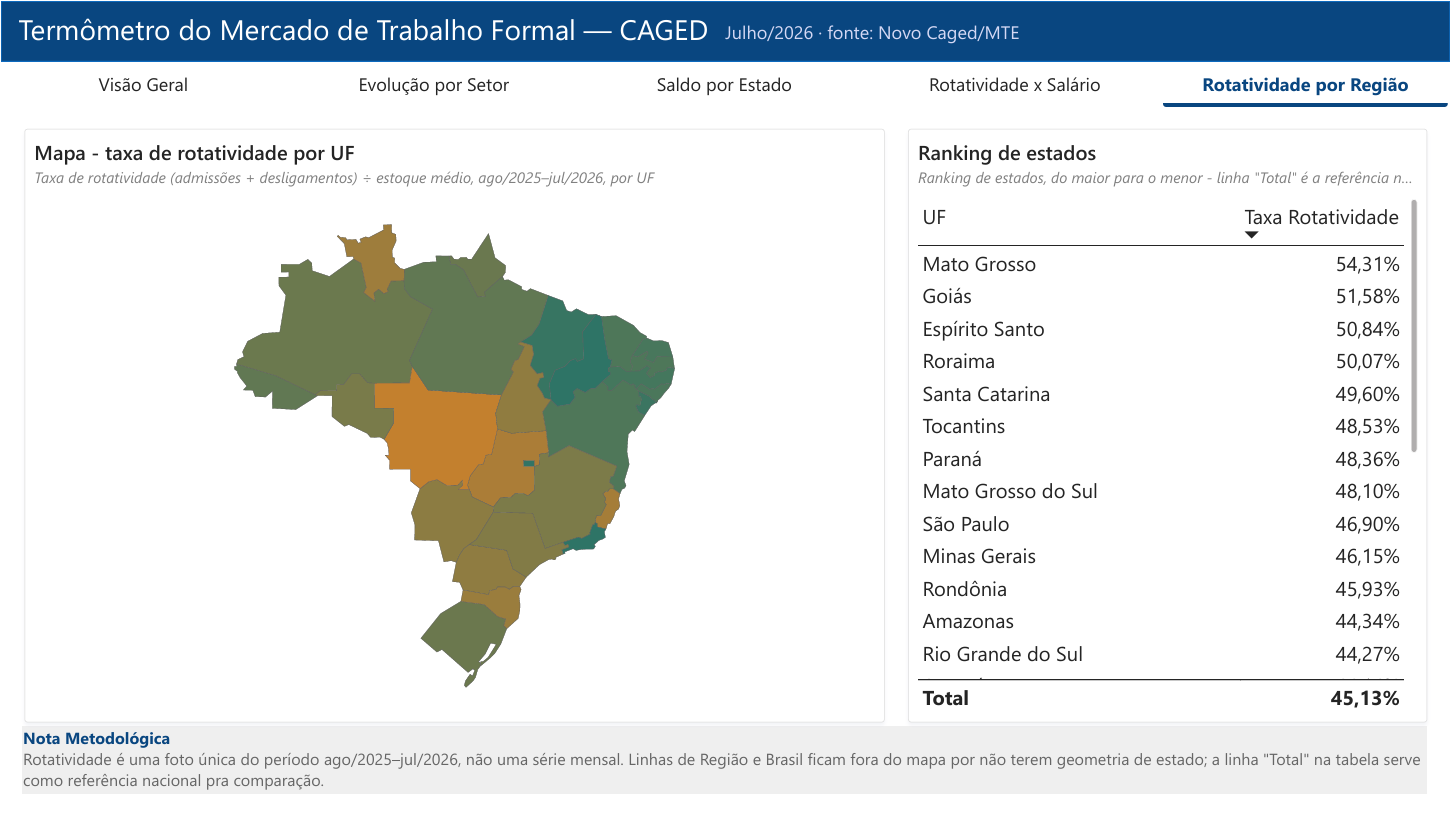

What the dashboard file says about the page in this screenshot:
{"tool":"powerbi","page":{"name":"Rotatividade por Região","canvas":[1920,1080],"ordinal":4},"visuals":[{"type":"shape","box":[0,0,1920,80],"z":0,"group":"g1"},{"type":"group","id":"g1","title":"Grupo 1","box":[0,0,1920,80],"z":0,"group":"g2"},{"type":"group","id":"g2","title":"Grupo 2","box":[0,0,1920,140],"z":0},{"type":"textbox","box":[0,12,960,62],"z":1000,"group":"g1"},{"type":"pageNavigator","box":[0,80,1920,60],"z":1000,"group":"g2"},{"type":"map","title":"Mapa - taxa de rotatividade por UF","fields":{"Category":["Dim_UF.UF"],"Size":["_Medida.Taxa Rotatividade Brasil"]},"box":[30.9,168.8,1140.3,786.3],"z":1000},{"type":"textbox","box":[945,24,420,42],"z":2000,"group":"g1"},{"type":"tableEx","title":"Ranking de estados","fields":{"Values":["Dim_UF.UF","_Medida.Taxa Rotatividade Brasil"]},"box":[1202.1,168.8,687.5,786.3],"z":2000},{"type":"textbox","box":[29.3,960,1860.9,90.5],"z":3000}]}

Visuals, with their boxes in screenshot pixels (x1, y1, x2, y2), scaled from the page's 1920x1080 canvas onto the 1452x821 screenshot:
shape: [left=0, top=0, right=1451, bottom=61]
"Grupo 1" group: [left=0, top=0, right=1451, bottom=61]
"Grupo 2" group: [left=0, top=0, right=1451, bottom=106]
textbox: [left=0, top=9, right=726, bottom=56]
pageNavigator: [left=0, top=61, right=1451, bottom=106]
"Mapa - taxa de rotatividade por UF" map: [left=23, top=128, right=886, bottom=726]
textbox: [left=715, top=18, right=1032, bottom=50]
"Ranking de estados" tableEx: [left=909, top=128, right=1429, bottom=726]
textbox: [left=22, top=730, right=1429, bottom=799]
